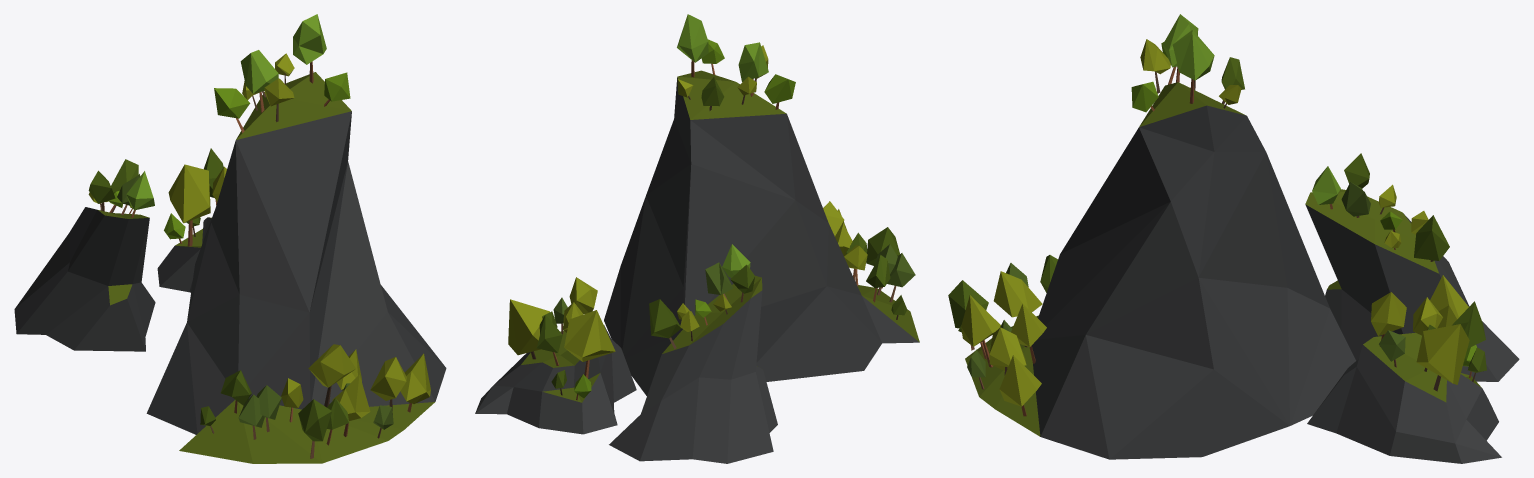
File: Open Ocean Island 4.fbx
The picture shows the model from 3 angles, left to right: view 1: azimuth 30°, elevation 25°; view 2: azimuth 150°, elevation 25°; view 3: azimuth 270°, elevation 25°; orthographic projection. The views are drawn at different scales.
Parts seen in each view (by area): view 1: Island 4, Trees.001; view 2: Island 4, Trees.001; view 3: Island 4, Trees.001.
Boxes of the visible parts, bbox=[...] form: Island 4: bbox=[14, 72, 446, 463]; Trees.001: bbox=[88, 14, 430, 458]; Island 4: bbox=[475, 70, 919, 463]; Trees.001: bbox=[508, 14, 915, 400]; Island 4: bbox=[965, 82, 1519, 463]; Trees.001: bbox=[948, 14, 1486, 416].
Bounding box in the file's own units: 2412 × 2762 × 3720.
